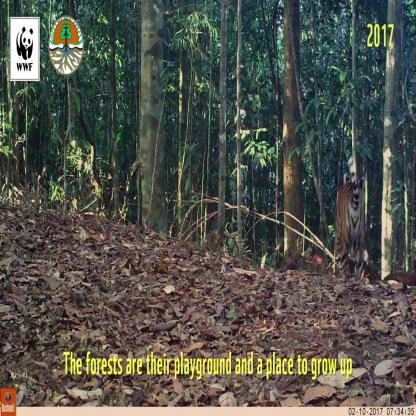Tiger: (325, 164, 367, 288)
